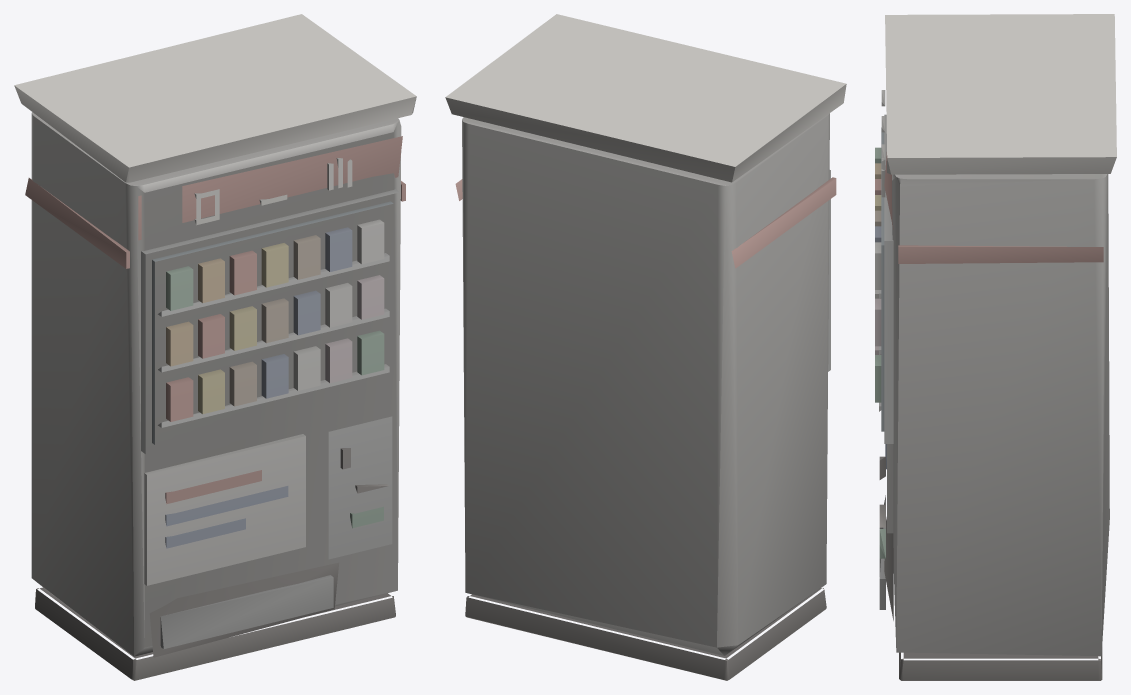
The model's file is vending.lod2.glb.
3 views of the same model, side by side, from view 1: azimuth 30°, elevation 25°; view 2: azimuth 150°, elevation 25°; view 3: azimuth 270°, elevation 25° (orthographic).
Size of the model in its own units: 1.1 by 1.88 by 0.7778.
